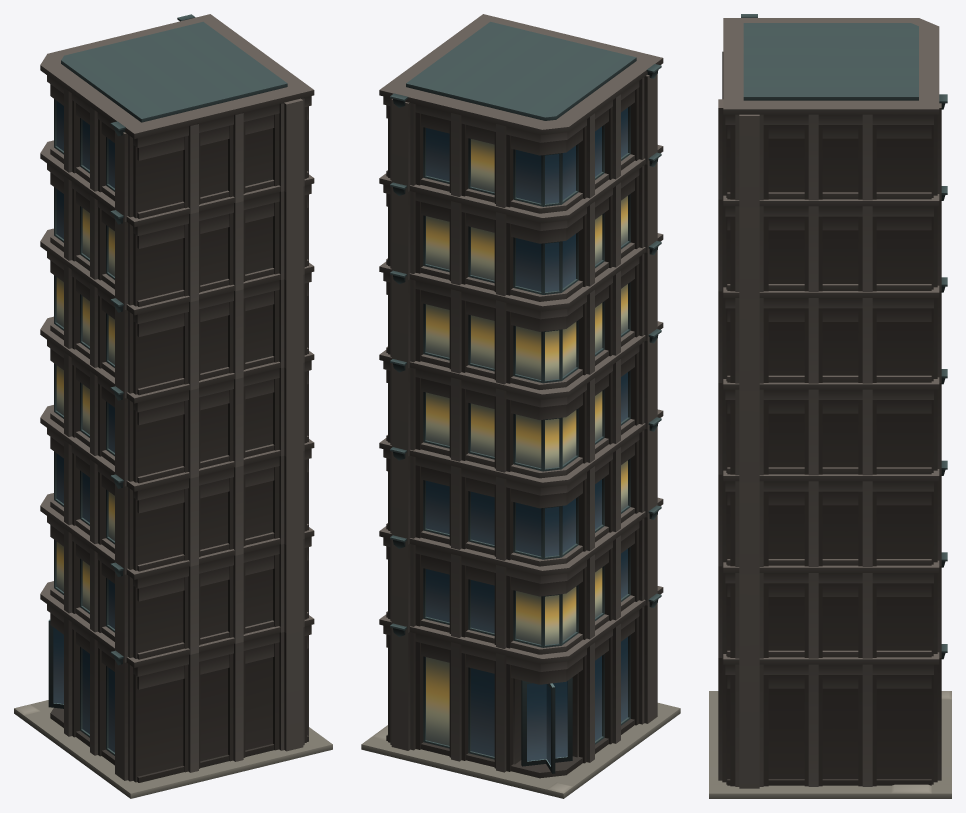
The model's file is Building_14C.fbx.
3 renders of one model, left to right at view 1: azimuth 30°, elevation 25°; view 2: azimuth 150°, elevation 25°; view 3: azimuth 270°, elevation 25°, orthographic. The views are drawn at different scales.
Visible parts, largest first — view 1: Building_14C, Window_Lights_14C, Revolving_Door_14C; view 2: Building_14C, Window_Lights_14C, Revolving_Door_14C; view 3: Building_14C.
Boxes of the visible parts, x1,y1,x2,y2 form: Building_14C: (14,14,332,798); Window_Lights_14C: (56,208,114,610); Revolving_Door_14C: (48,619,63,708); Building_14C: (361,14,680,798); Window_Lights_14C: (426,139,627,745); Revolving_Door_14C: (521,677,572,773); Building_14C: (709,14,951,798).
Bounding box in the file's own units: 12 × 37.5 × 12.
